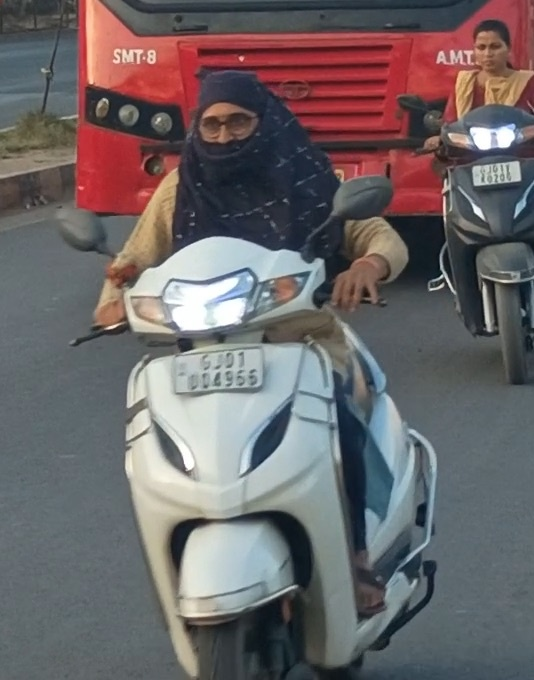BikeWithRider: (46, 62, 452, 679), (390, 15, 534, 393)
NoHelmet: (175, 65, 292, 185), (469, 15, 513, 69)
